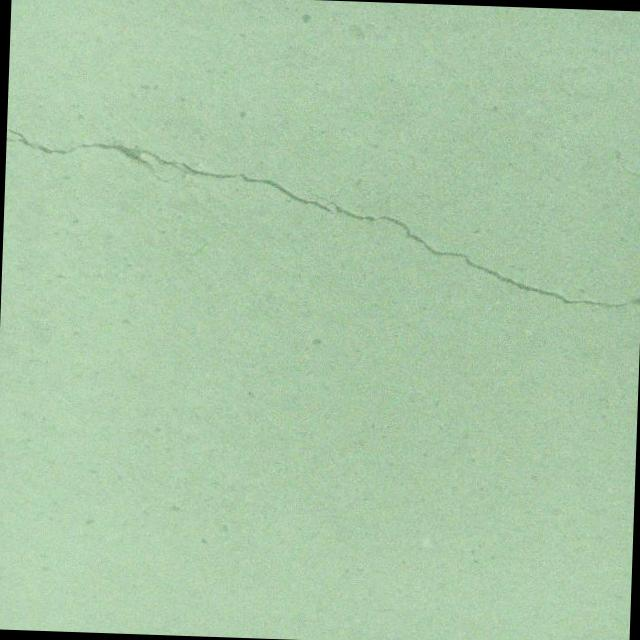crack: (1, 127, 640, 310)
